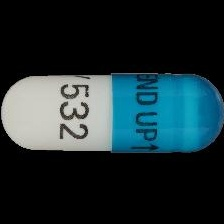0615-1393: (0, 0, 224, 224)
